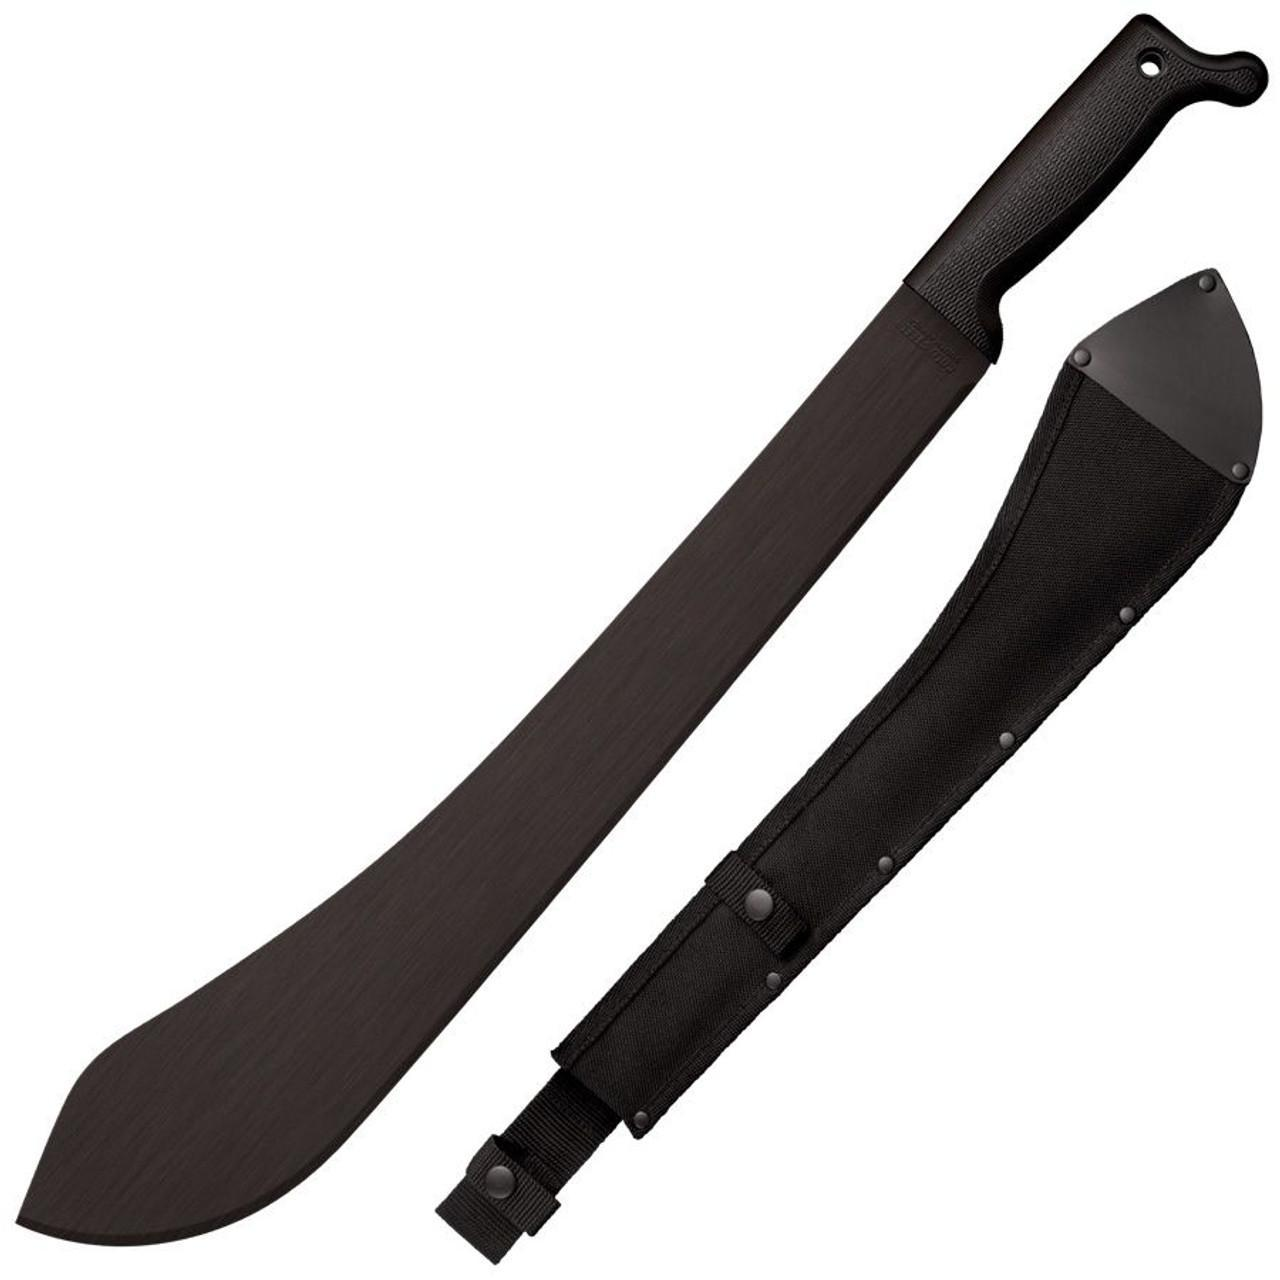facao: (0, 0, 1280, 1280), (403, 247, 1272, 1280)
